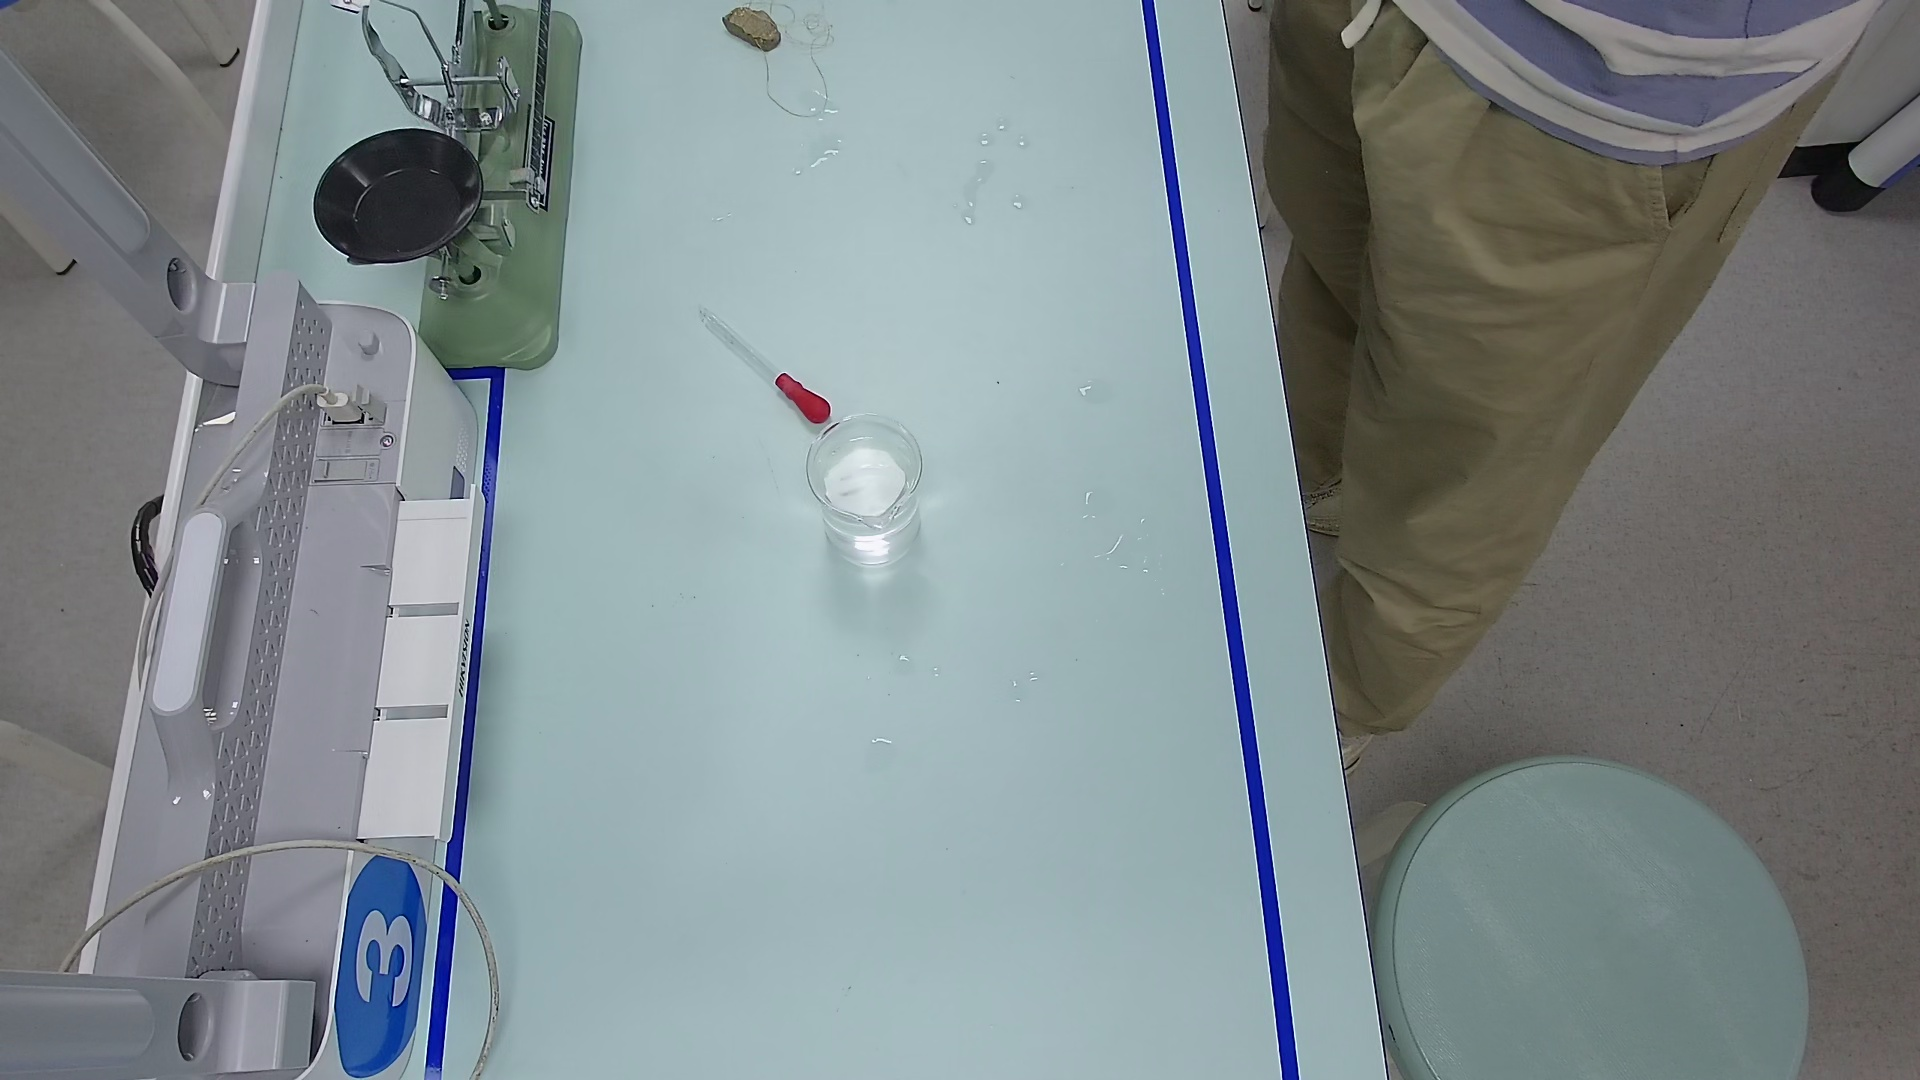bei: (800, 411, 932, 580)
diguan: (696, 302, 831, 427)
diguantou: (778, 378, 833, 427)
shi: (721, 1, 775, 55)
tuo: (305, 131, 480, 260)
